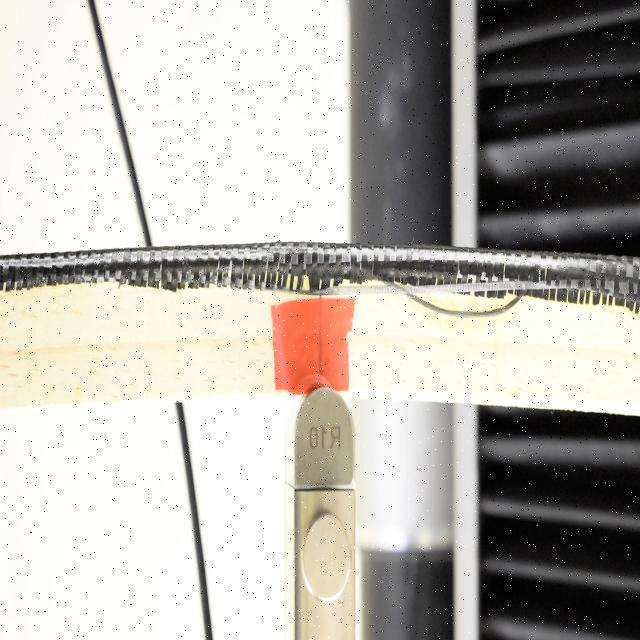wood: (0, 244, 639, 417)
